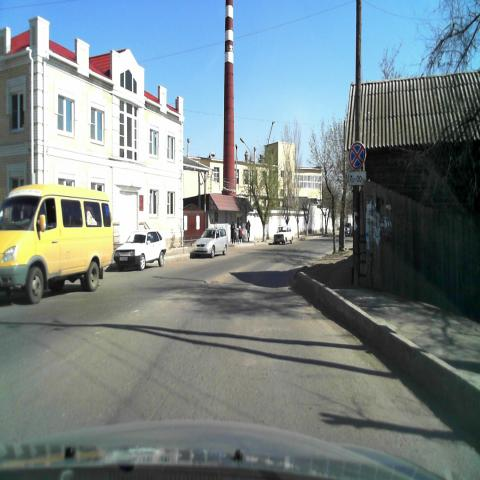3_27: (348, 142, 366, 170)
